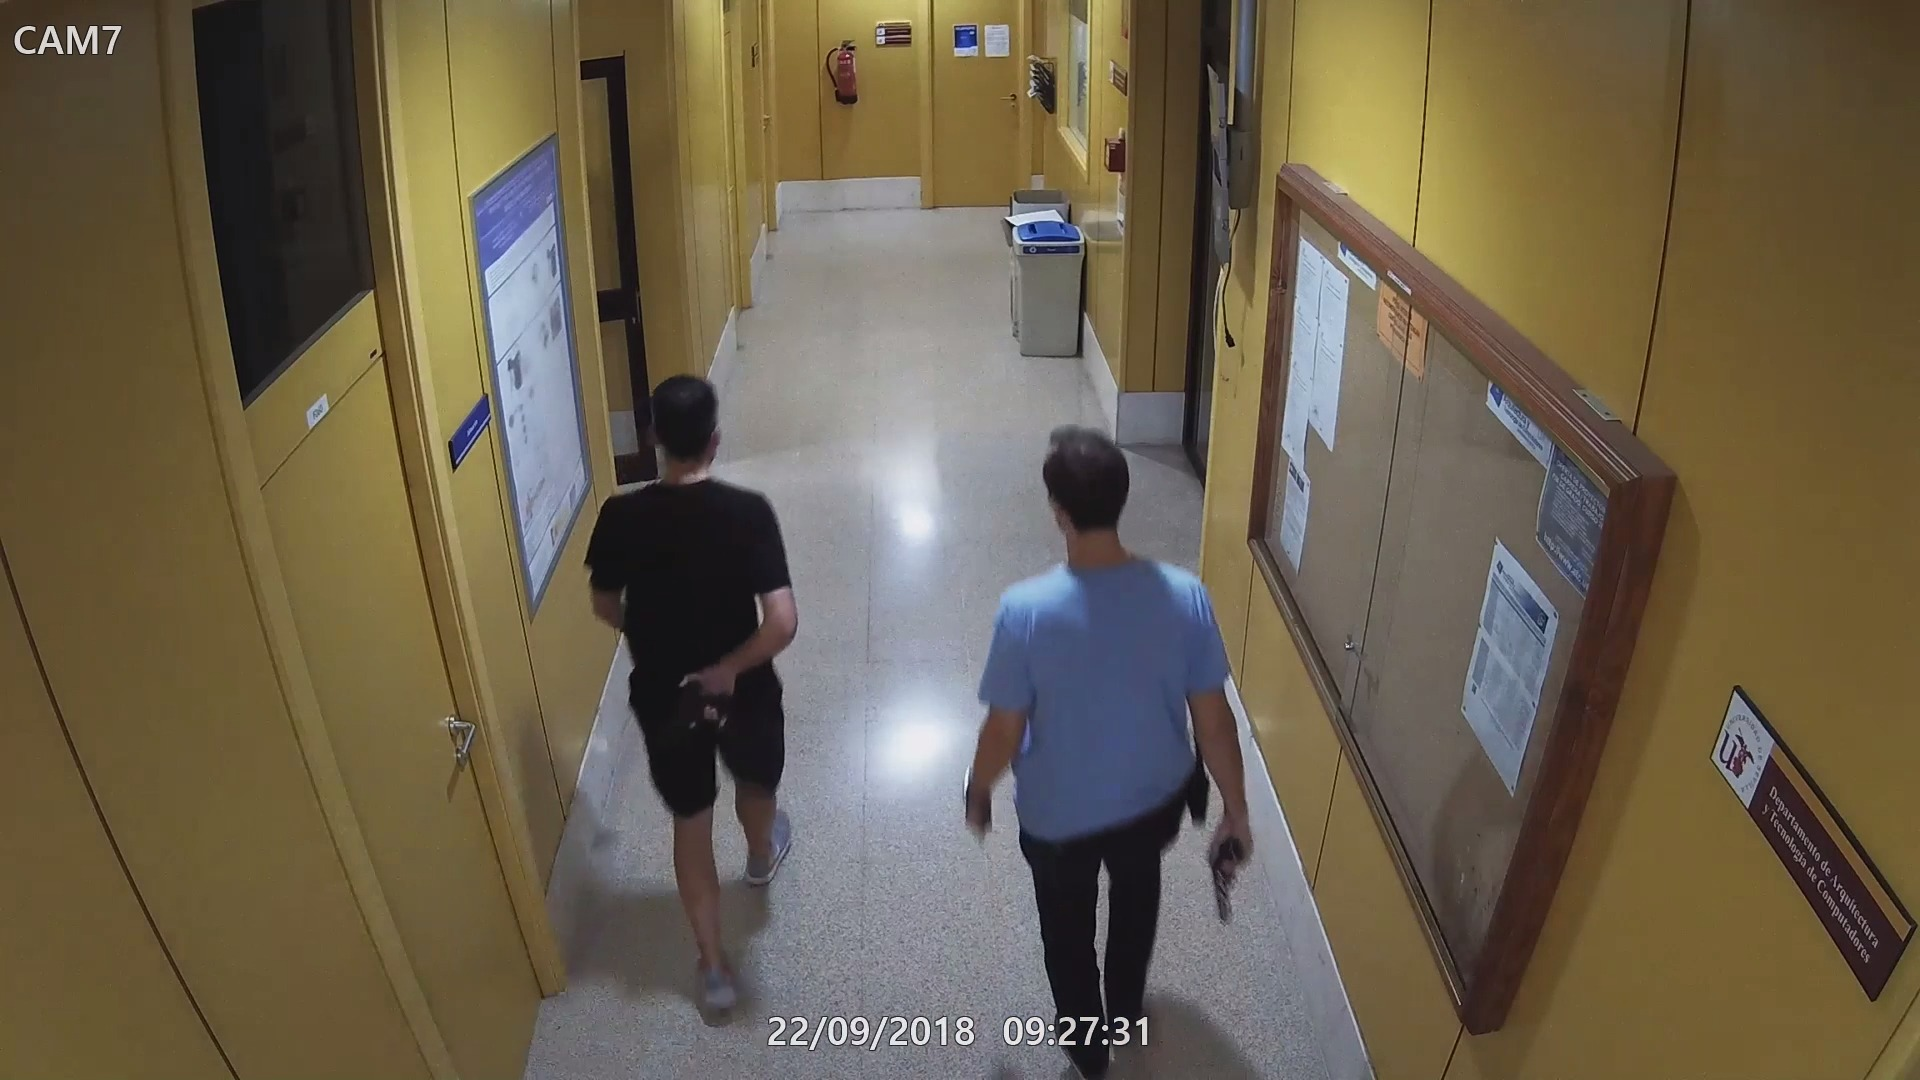Handgun: (663, 676, 733, 746), (1204, 836, 1251, 927)
Knife: (957, 750, 992, 847)
